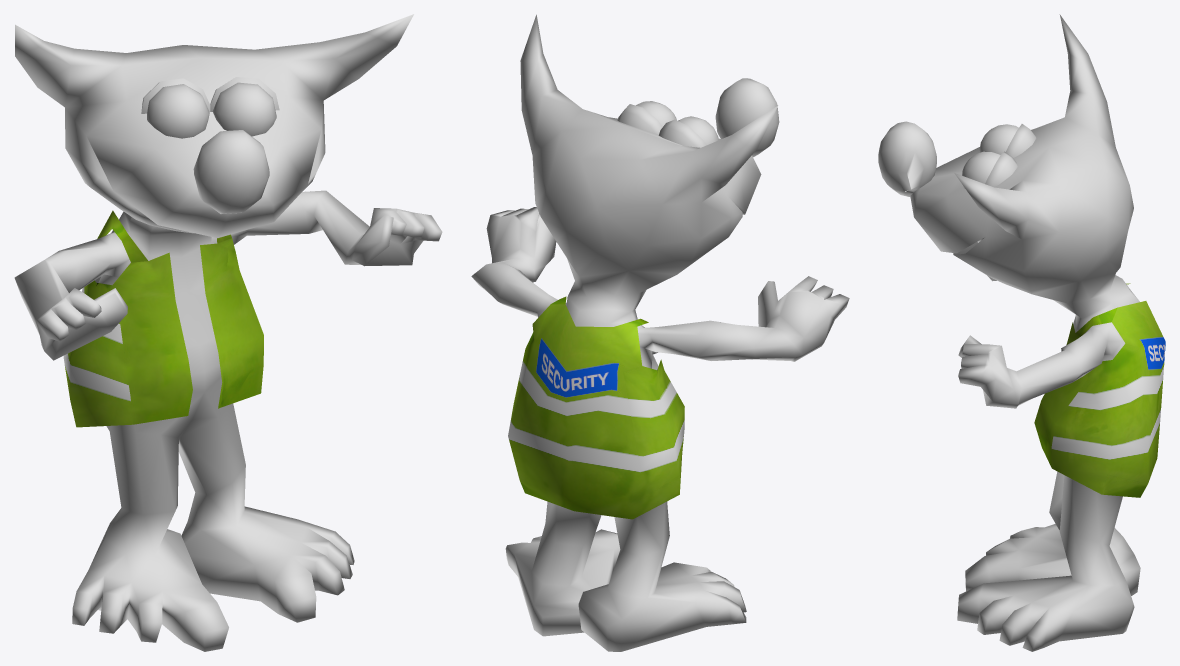
The model's file is stklib_wilbertSecurity_a_main.glb.
3 views of the same model, side by side, from view 1: azimuth 30°, elevation 25°; view 2: azimuth 150°, elevation 25°; view 3: azimuth 270°, elevation 25° (orthographic). The views are drawn at different scales.
Visible parts, largest first — view 1: ___, stktex_wilberSecurityGuy_a.jpg__; view 2: ___, stktex_wilberSecurityGuy_a.jpg__; view 3: ___, stktex_wilberSecurityGuy_a.jpg__.
Boxes of the visible parts, x1,y1,x2,y2 form: ___: (14, 14, 442, 651); stktex_wilberSecurityGuy_a.jpg__: (63, 210, 263, 427); ___: (471, 14, 849, 651); stktex_wilberSecurityGuy_a.jpg__: (508, 296, 684, 519); ___: (878, 14, 1140, 651); stktex_wilberSecurityGuy_a.jpg__: (1034, 283, 1165, 497).
Bounding box in the file's own units: 1.35 × 2.05 × 1.02.
2 materials, 1 textured.
